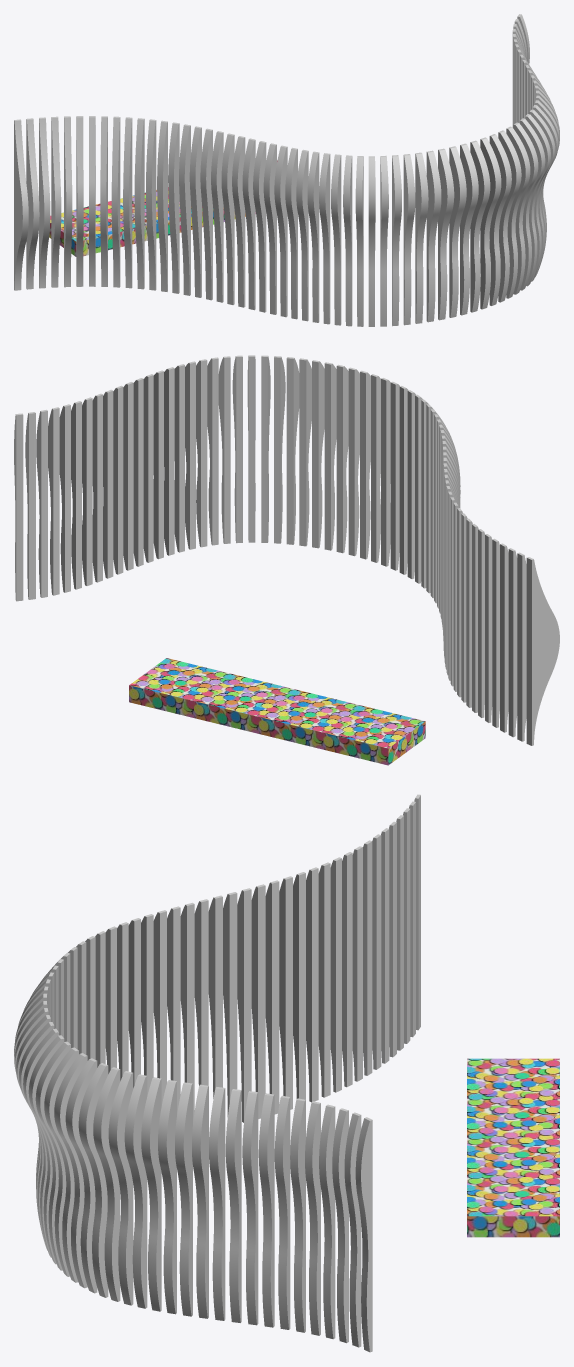
3 views of the same model, one above another, from view 1: azimuth 30°, elevation 25°; view 2: azimuth 150°, elevation 25°; view 3: azimuth 270°, elevation 25° (orthographic). The views are drawn at different scales.
Parts seen in each view (by area): view 1: [0]; view 2: [0]; view 3: [0].
Part boxes in pixels (x1=…): [0]: x1=14, y1=14, x2=559, y2=326; [0]: x1=14, y1=355, x2=559, y2=765; [0]: x1=14, y1=794, x2=559, y2=1352.
Bounding box in the file's own units: 8.5 × 2.74 × 5.86.
Materials: 1 (1 with a texture image).
